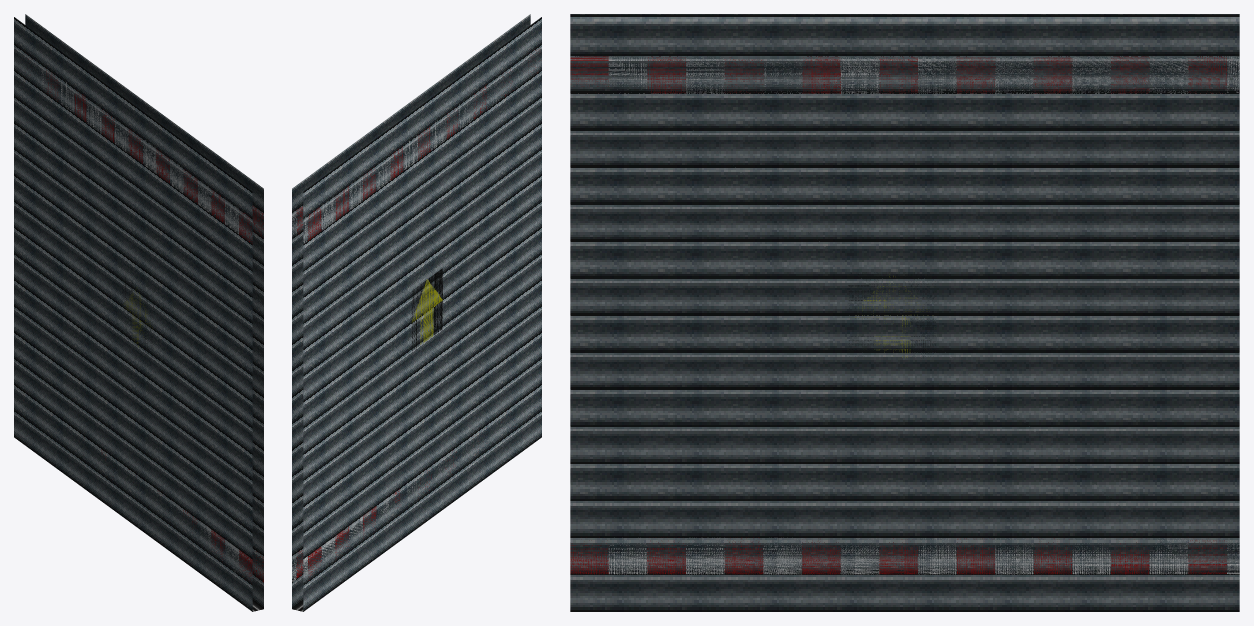
File: primary_113.glb
3 renders of one model, left to right at view 1: azimuth 30°, elevation 25°; view 2: azimuth 150°, elevation 25°; view 3: azimuth 270°, elevation 25°, orthographic. The views are drawn at different scales.
Parts seen in each view (by area): view 1: Object; view 2: Object; view 3: Object.
Part boxes in pixels (box(x1,y1,x2,y2)): Object: box(14, 14, 263, 611); Object: box(292, 14, 541, 611); Object: box(570, 14, 1239, 611).
Bounding box in the file's own units: 0.1035 × 3.68 × 3.78.
Materials: 6 (6 with a texture image).
